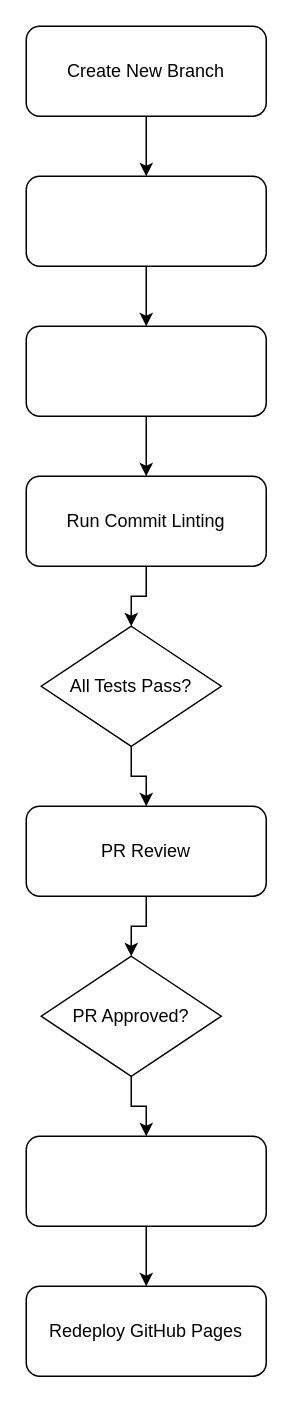
Some shapes in this 293 by 1403 pixel diagram are drawn without their labels. The centre of each missing label's shape, as x and y in pixels:
"Commit Changes" belongs at [145,220].
"Merge to Main" belongs at [145,1180].
"Run Linting" belongs at [145,370].
